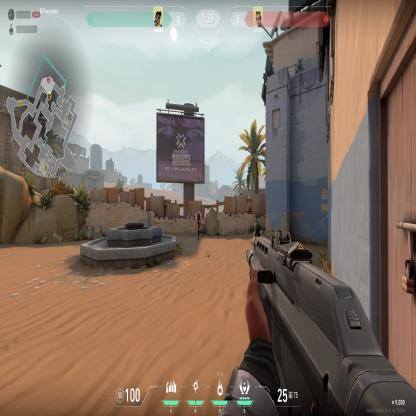enemy: (196, 208, 203, 241)
